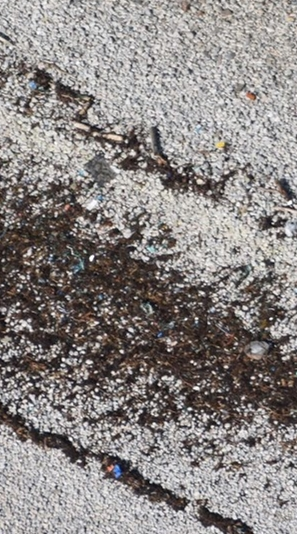straight_bar: (67, 113, 131, 149), (142, 118, 173, 160)
white_in_green: (223, 314, 293, 379), (87, 441, 147, 499), (197, 123, 250, 170), (51, 246, 104, 293), (228, 72, 277, 118), (6, 64, 55, 110), (137, 314, 183, 355), (131, 230, 177, 271), (79, 180, 125, 221)
